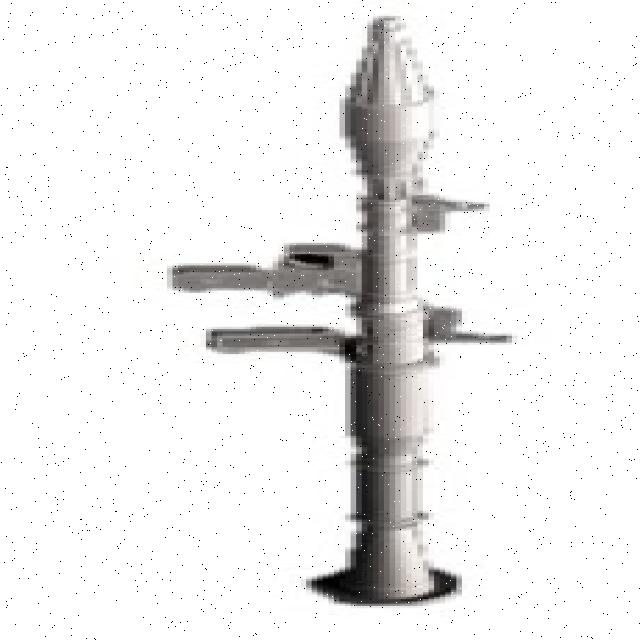bazooka: (148, 11, 535, 614)
